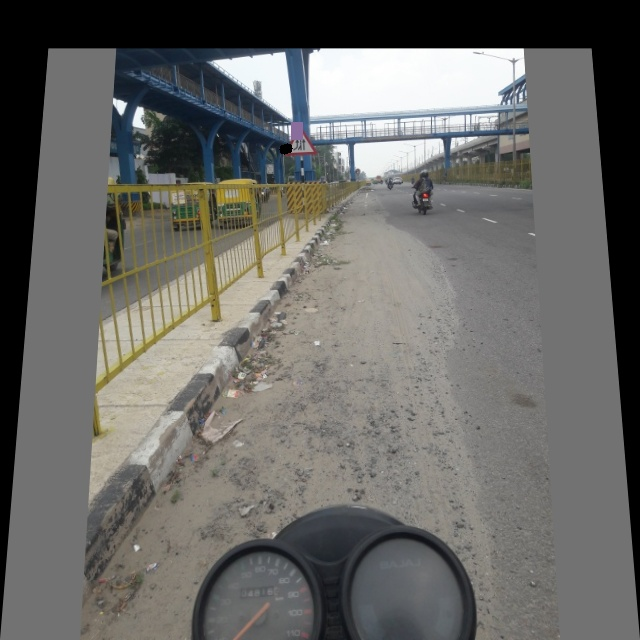Merge_Traffic_Ahead: (281, 117, 319, 158)
